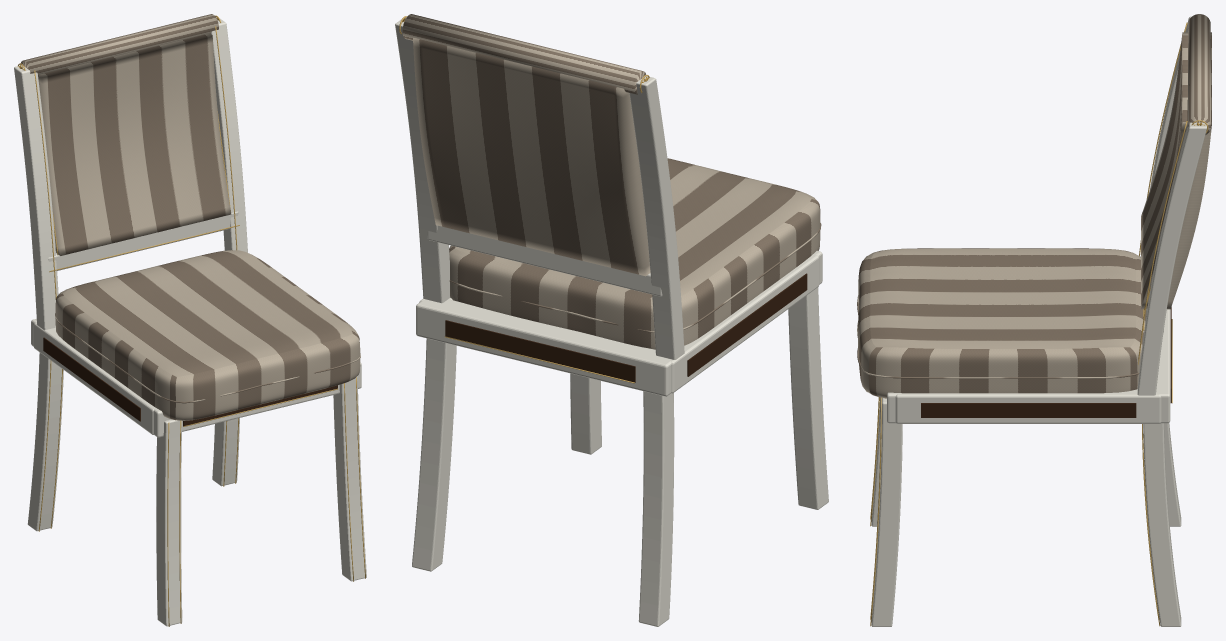
The picture shows the model from 3 angles, left to right: view 1: azimuth 30°, elevation 25°; view 2: azimuth 150°, elevation 25°; view 3: azimuth 270°, elevation 25°; orthographic projection. The views are drawn at different scales.
Visible parts, largest first — view 1: Belgravia dining chair | 50034.0 | dining-12 web batch; view 2: Belgravia dining chair | 50034.0 | dining-12 web batch; view 3: Belgravia dining chair | 50034.0 | dining-12 web batch.
Part boxes in pixels (x1,y1,x2,y2): Belgravia dining chair | 50034.0 | dining-12 web batch: [14, 14, 366, 626]; Belgravia dining chair | 50034.0 | dining-12 web batch: [395, 14, 828, 626]; Belgravia dining chair | 50034.0 | dining-12 web batch: [857, 14, 1211, 626].
Bounding box in the file's own units: 0.47 × 0.98 × 0.62.
5 materials, 1 textured.
